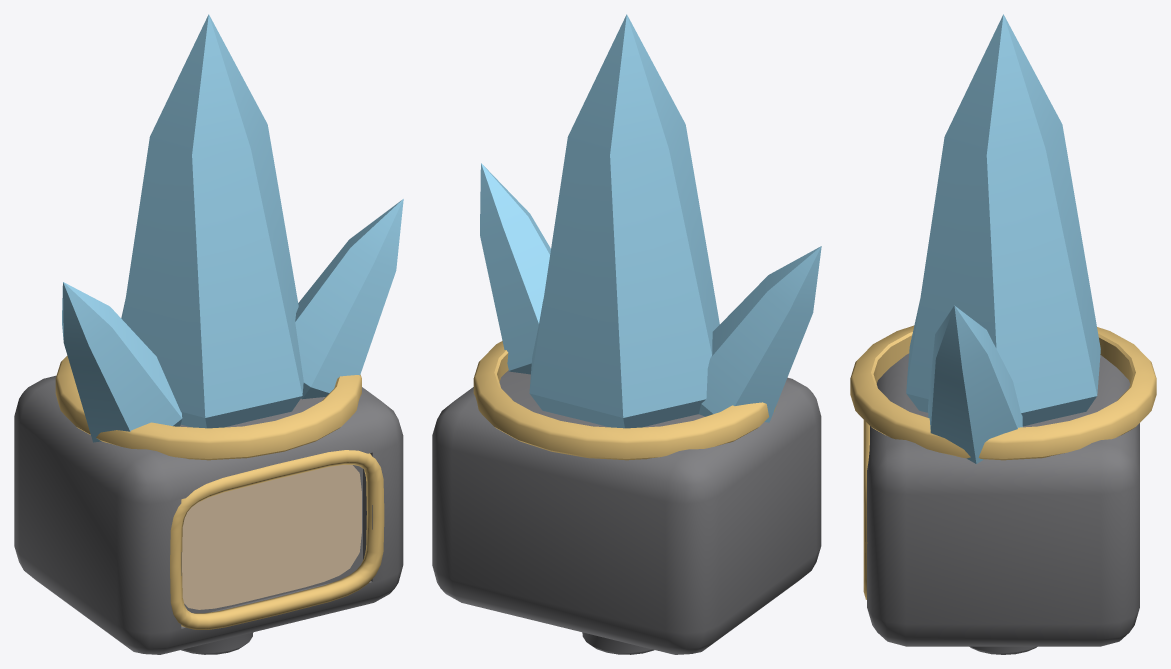
The model's file is Kit_Head_LeagueCrystal.glb.
The picture shows the model from 3 angles, left to right: view 1: azimuth 30°, elevation 25°; view 2: azimuth 150°, elevation 25°; view 3: azimuth 270°, elevation 25°; orthographic projection.
Parts seen in each view (by area): view 1: Kit_Head_LeagueCrystal, FacePlate; view 2: Kit_Head_LeagueCrystal; view 3: Kit_Head_LeagueCrystal.
Boxes of the visible parts, bbox=[...] form: Kit_Head_LeagueCrystal: bbox=[14, 14, 403, 654]; FacePlate: bbox=[182, 465, 361, 609]; Kit_Head_LeagueCrystal: bbox=[432, 14, 821, 654]; Kit_Head_LeagueCrystal: bbox=[850, 14, 1156, 654].
Size of the model in its own units: 0.303 by 0.53 by 0.236.
